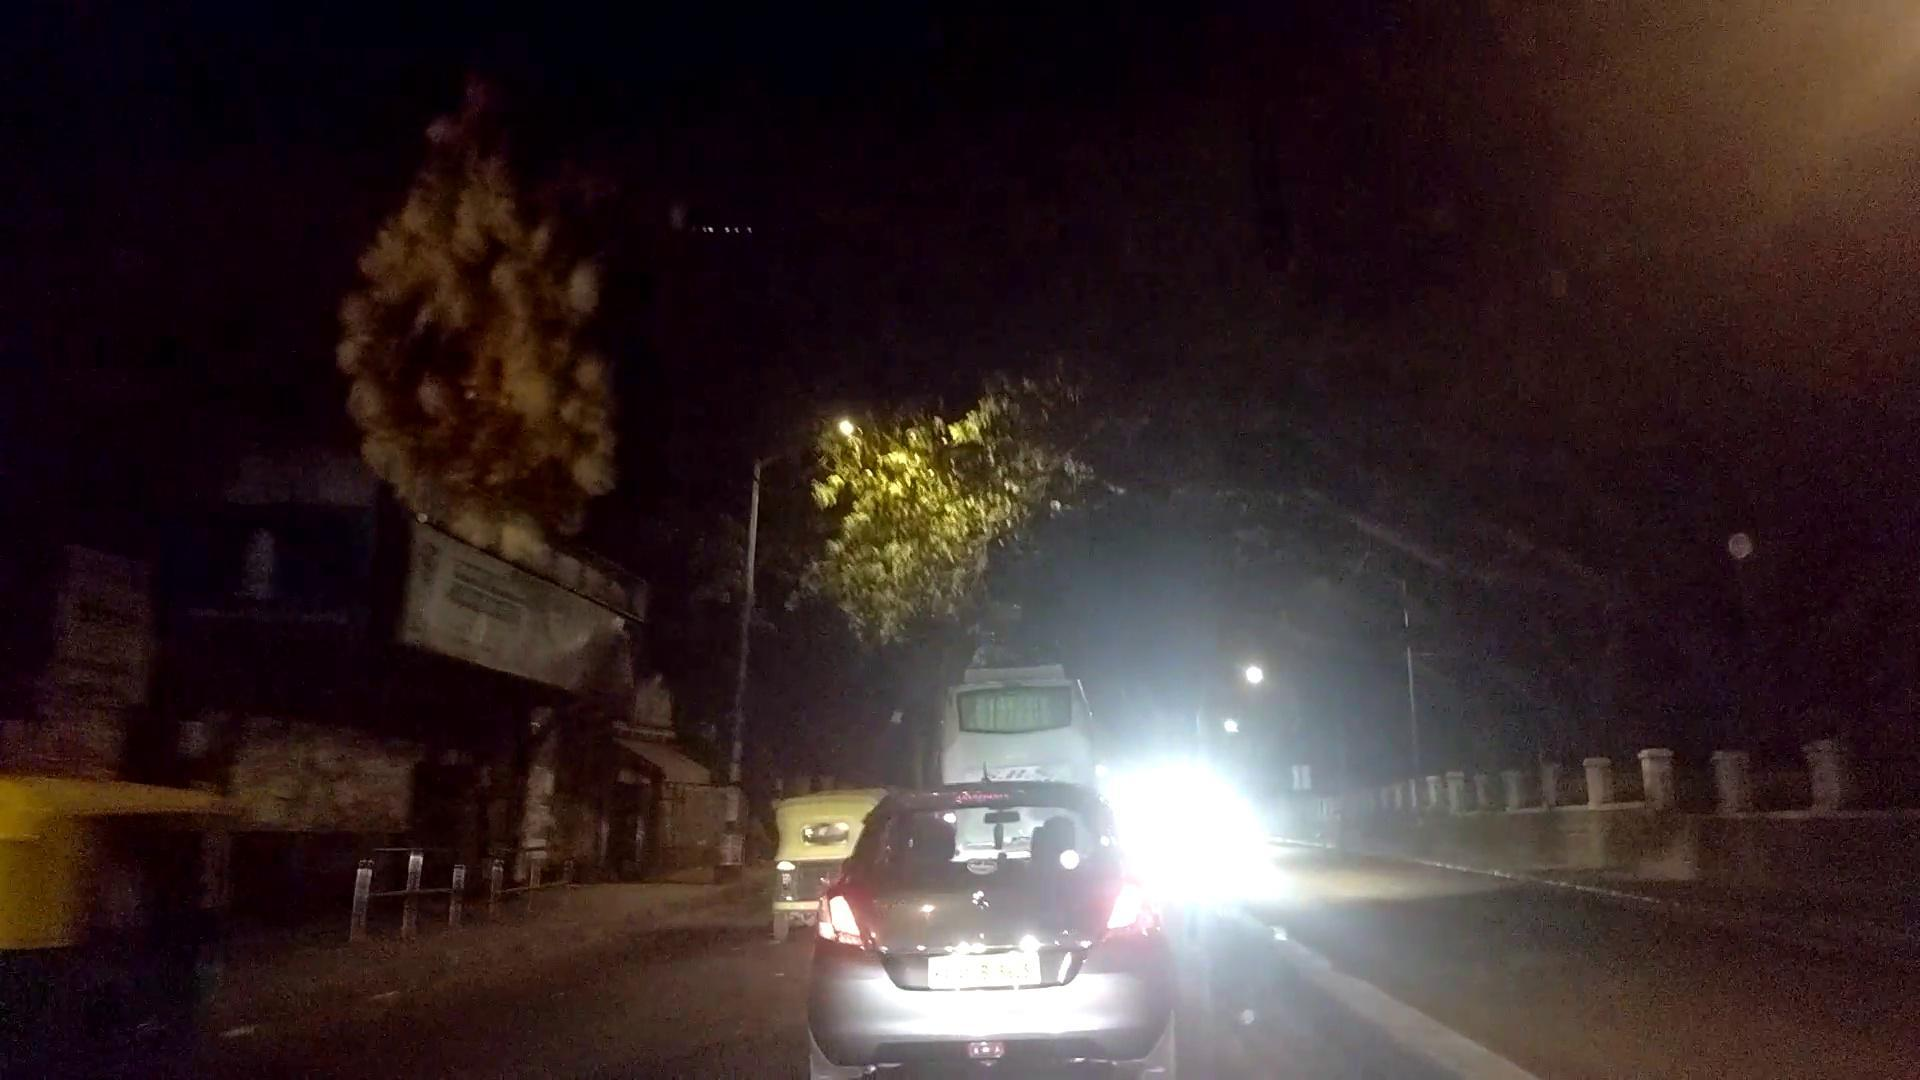on: (1520, 62, 1920, 475)
